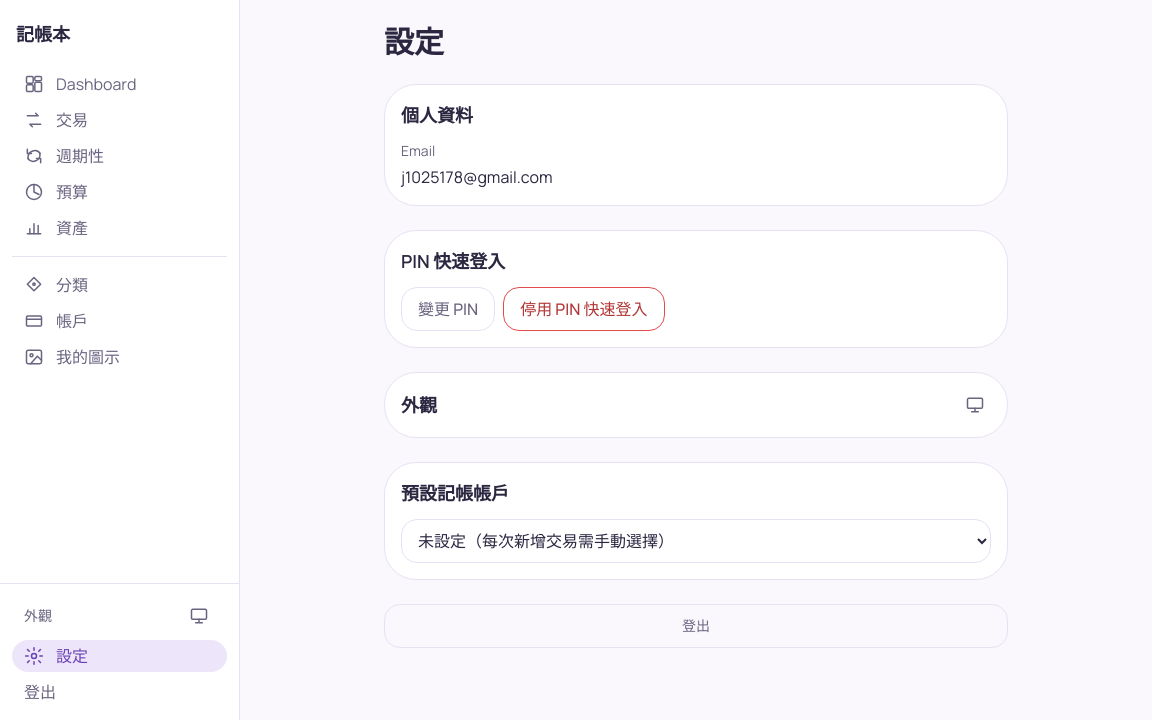
Test: SettingsPage › 已設定 PIN › 點擊「停用 PIN 快速登入」需輸入目前密碼
Click the button "停用 PIN 快速登入".
click(584, 309)  # box [503, 287, 665, 331]
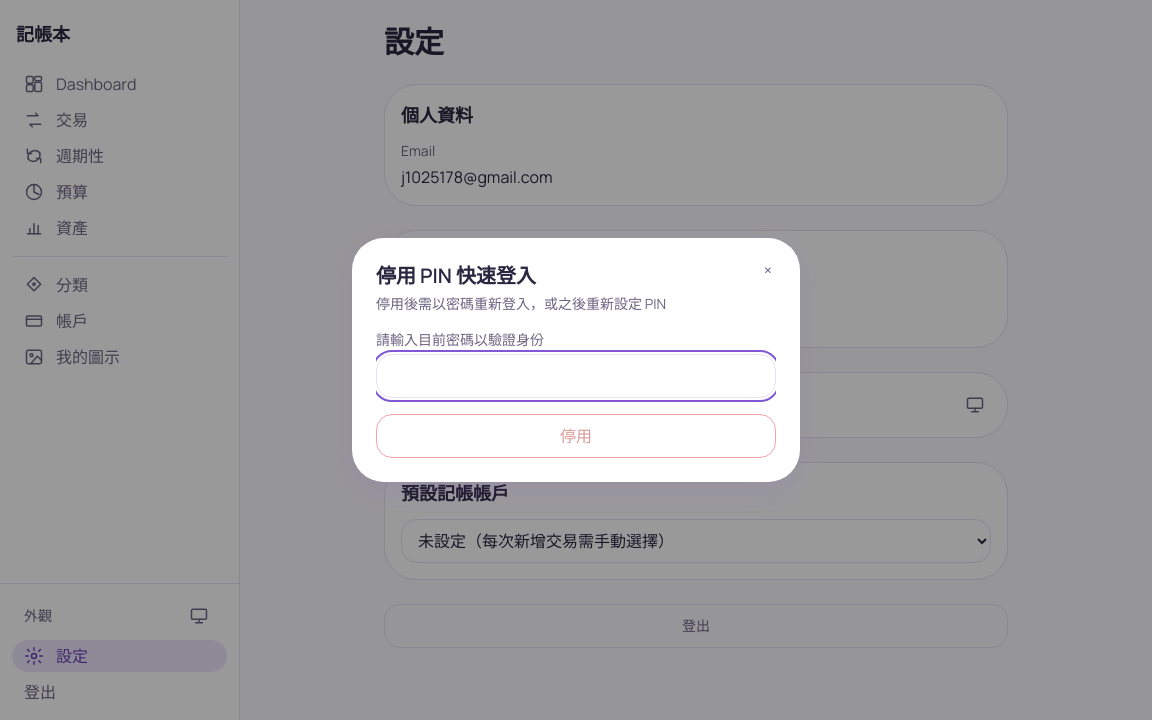
Now the password field labelled "請輸入目前密碼以驗證身份" is shown, box [376, 354, 776, 398]
